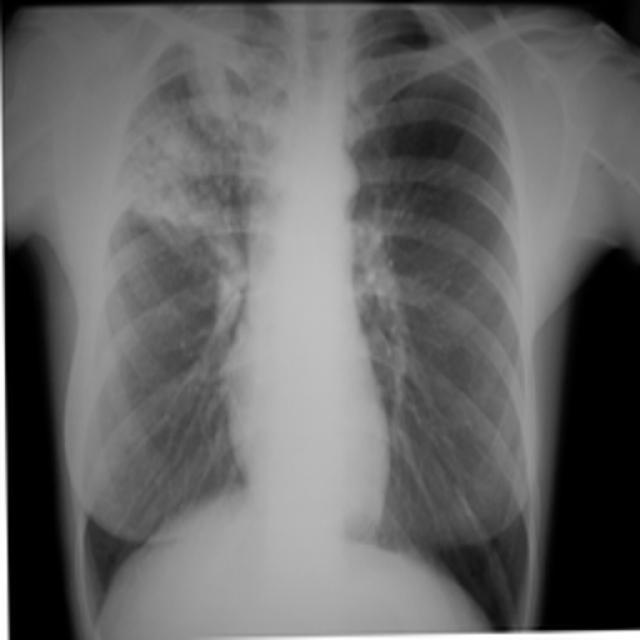tuberculosis: (8, 0, 640, 640)
